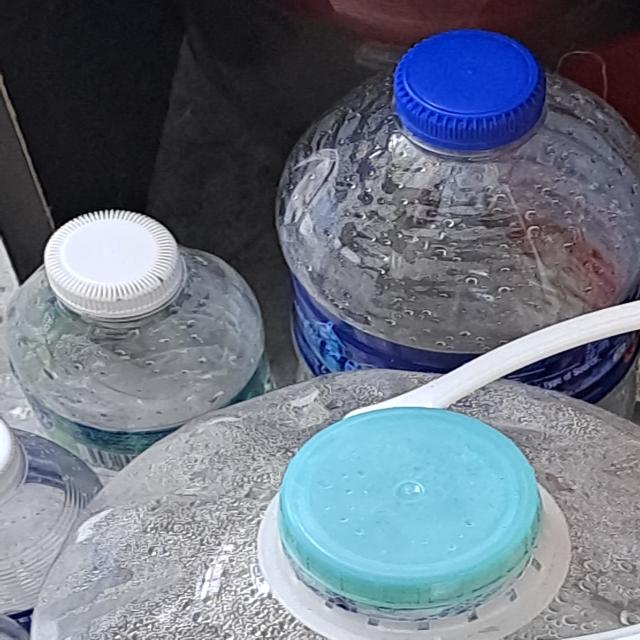plastic bottle: (35, 370, 640, 640), (279, 53, 640, 445), (6, 254, 297, 478), (0, 429, 108, 640)
plastic bottle cap: (279, 409, 544, 622), (392, 27, 548, 149), (40, 204, 186, 318)
